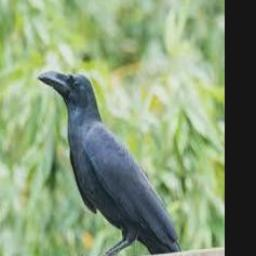Crow: (37, 70, 193, 256)
